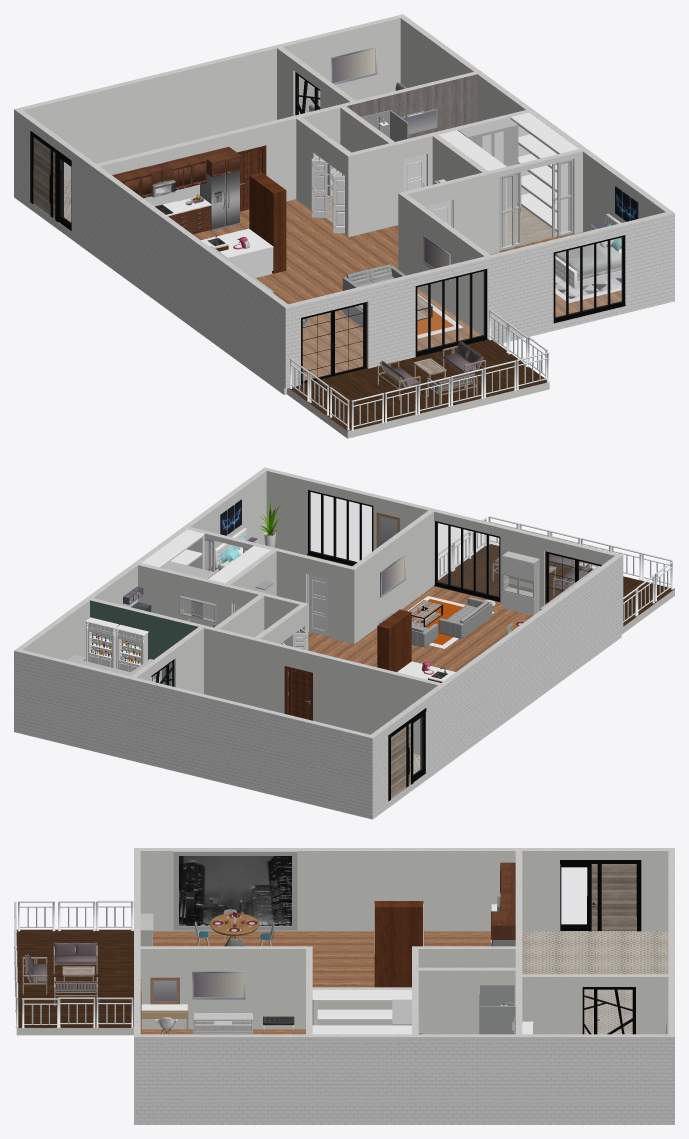
The model's file is house.glb.
3 renders of one model, top to bottom at view 1: azimuth 30°, elevation 25°; view 2: azimuth 150°, elevation 25°; view 3: azimuth 270°, elevation 25°, orthographic. The views are drawn at different scales.
Visible parts, largest first — view 1: Object_6, Object_12, Object_39, Object_10, Object_7, Object_23, Object_8, Object_28, Object_35, Object_48, Object_11, Object_9 (+13 smaller); view 2: Object_12, Object_6, Object_23, Object_39, Object_7, Object_28, Object_10, Object_8, Object_35, Object_99, Object_84, Object_9 (+8 smaller); view 3: Object_12, Object_6, Object_23, Object_8, Object_96, Object_10, Object_2, Object_9, Object_7, Object_35, Object_39, Object_77 (+14 smaller).
Boxes of the visible parts, x1,y1,x2,y2 form: Object_6: (23,18,665,438); Object_12: (14,109,674,394); Object_39: (60,76,621,380); Object_10: (193,199,621,380); Object_7: (162,112,621,338); Object_23: (14,14,674,307); Object_8: (289,339,546,431); Object_28: (30,72,625,383); Object_35: (289,179,614,430); Object_48: (112,147,241,234); Object_11: (346,74,477,138); Object_9: (249,172,286,273); Object_12: (14,555,623,819); Object_6: (22,471,674,754); Object_23: (14,467,622,738); Object_39: (125,492,599,774); Object_7: (85,527,533,679); Object_28: (136,490,601,801); Object_10: (275,547,532,671); Object_8: (438,544,674,626); Object_35: (238,516,673,622); Object_99: (90,600,198,685); Object_84: (379,597,492,647); Object_9: (377,609,411,671); Object_12: (134,1037,674,1124); Object_6: (16,851,668,1035); Object_23: (134,848,674,1036); Object_8: (16,929,133,1027); Object_96: (522,931,668,1034); Object_10: (141,931,491,1034); Object_2: (179,856,291,925); Object_9: (374,901,423,987); Object_7: (141,904,533,1034); Object_35: (14,900,293,1034); Object_39: (561,867,632,1033); Object_77: (591,864,636,930).
Size of the model in its own units: 13.67 by 2.95 by 20.14.
100 materials, 58 textured.
